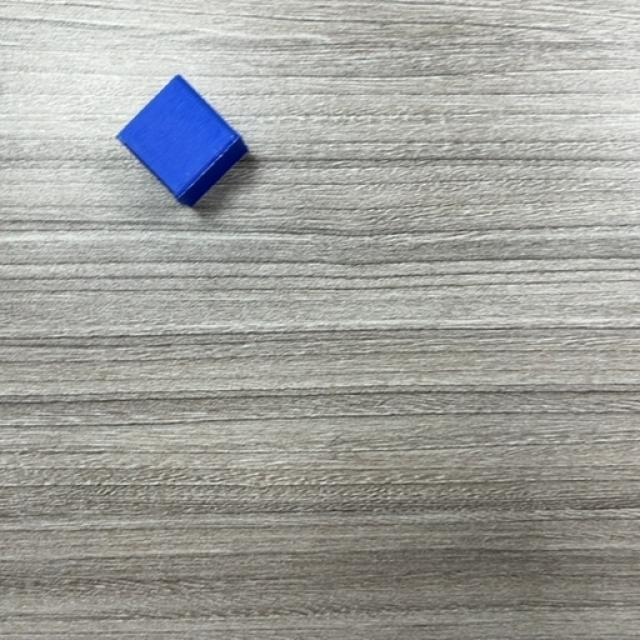Azul: (114, 76, 250, 209)
